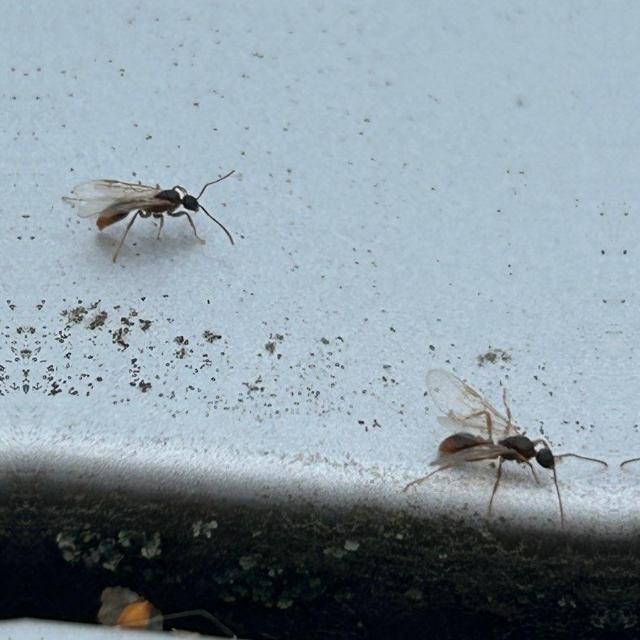Myrmica: (388, 356, 586, 512), (59, 160, 247, 248)
